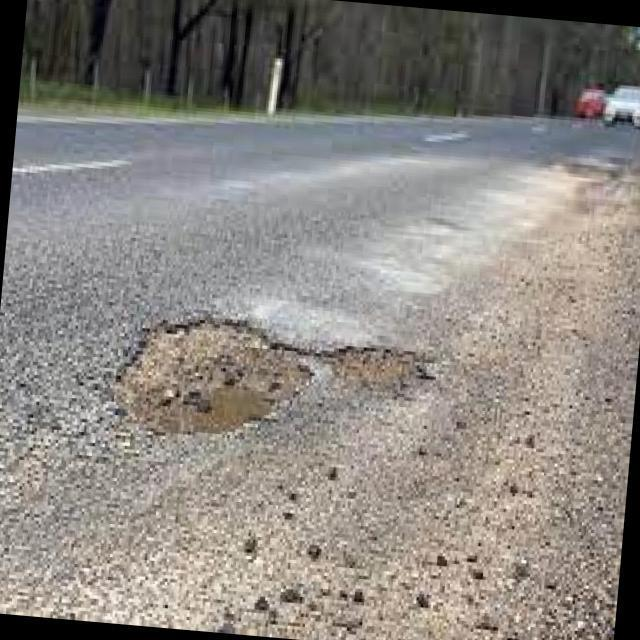Pothole: (110, 318, 314, 436)
